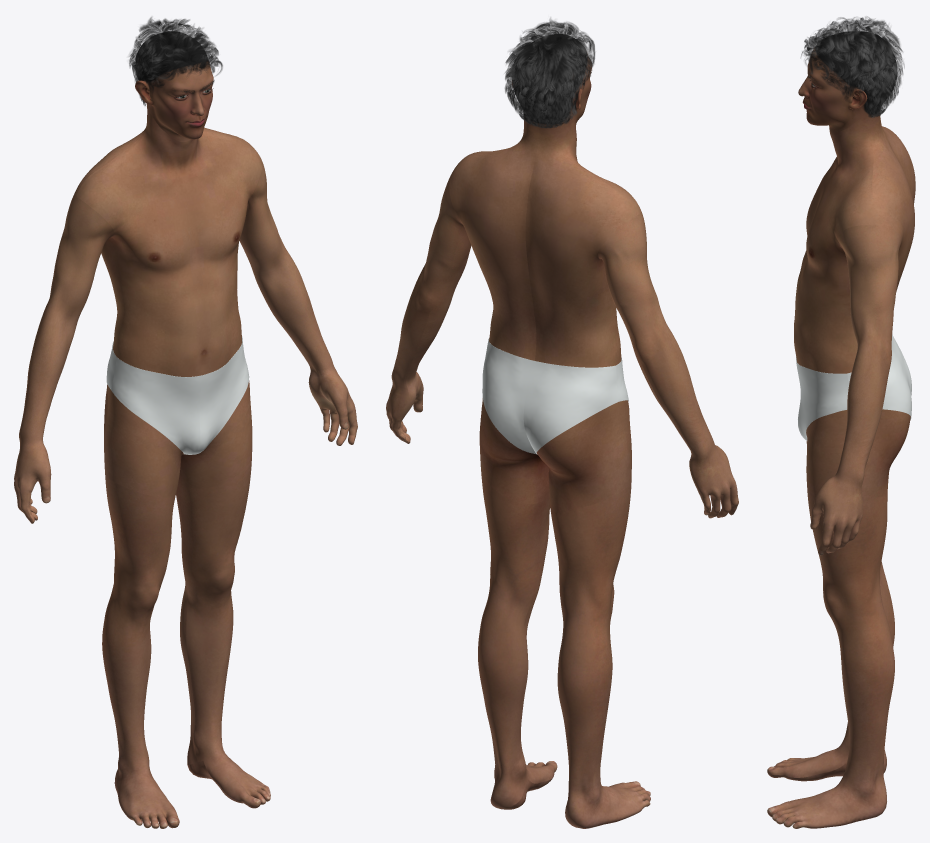
Rendered from ANH-Underwear.glb.
3 views of the same model, side by side, from view 1: azimuth 30°, elevation 25°; view 2: azimuth 150°, elevation 25°; view 3: azimuth 270°, elevation 25° (orthographic). The views are drawn at different scales.
Parts seen in each view (by area): view 1: Male3', Pattern_4261030, model_4.001, Pattern_4261027; view 2: Male3', model_4.001, Pattern_4261032, Pattern_4261028; view 3: Male3', model_4.001, Pattern_4261027, Pattern_4261028.
Part boxes in pixels (left/top/right/bottom): Male3': left=14, top=31, right=357, bottom=828; Pattern_4261030: left=111, top=357, right=202, bottom=454; model_4.001: left=129, top=17, right=222, bottom=105; Pattern_4261027: left=195, top=336, right=249, bottom=454; Male3': left=386, top=33, right=738, bottom=828; model_4.001: left=504, top=17, right=595, bottom=128; Pattern_4261032: left=523, top=360, right=618, bottom=454; Pattern_4261028: left=482, top=337, right=536, bottom=454; Male3': left=767, top=31, right=915, bottom=828; model_4.001: left=801, top=16, right=904, bottom=117; Pattern_4261027: left=796, top=357, right=848, bottom=440; Pattern_4261028: left=847, top=341, right=911, bottom=419.
Size of the model in its own units: 0.8744 by 1.91 by 0.3299.
11 materials, 11 textured.
